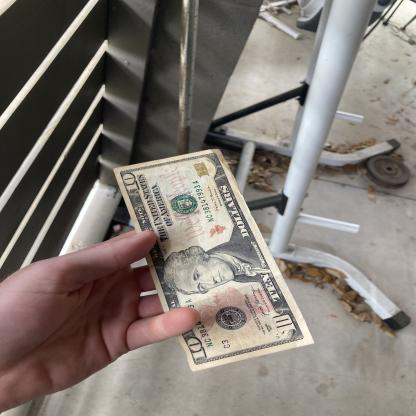ten-front: (113, 147, 316, 371)
